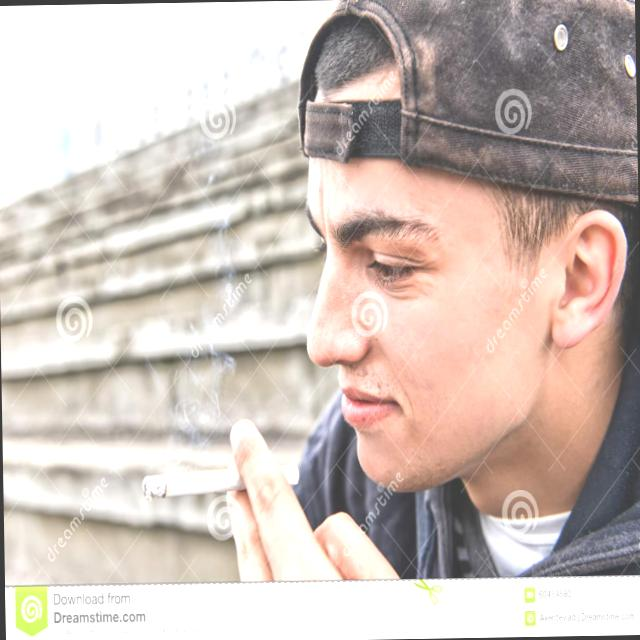smoke: (114, 442, 322, 519)
